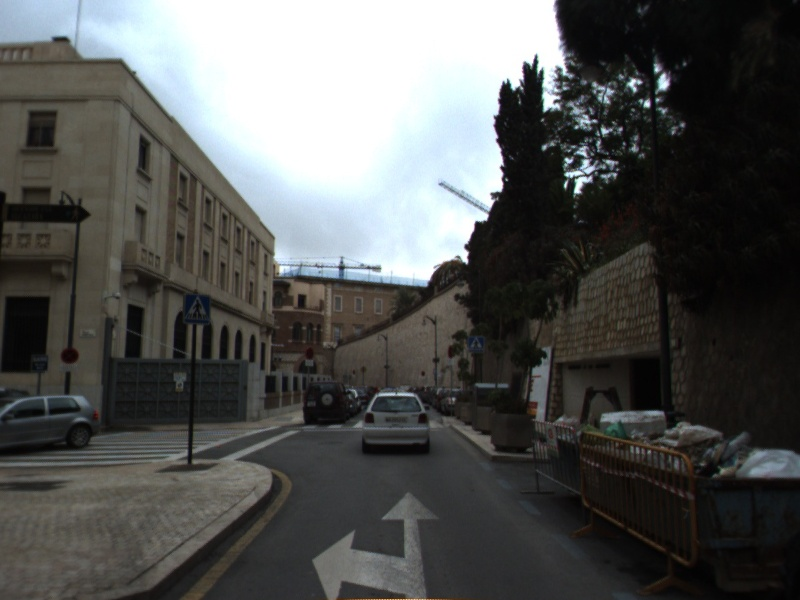STRAIGHT_LEFT: (310, 490, 441, 600)
